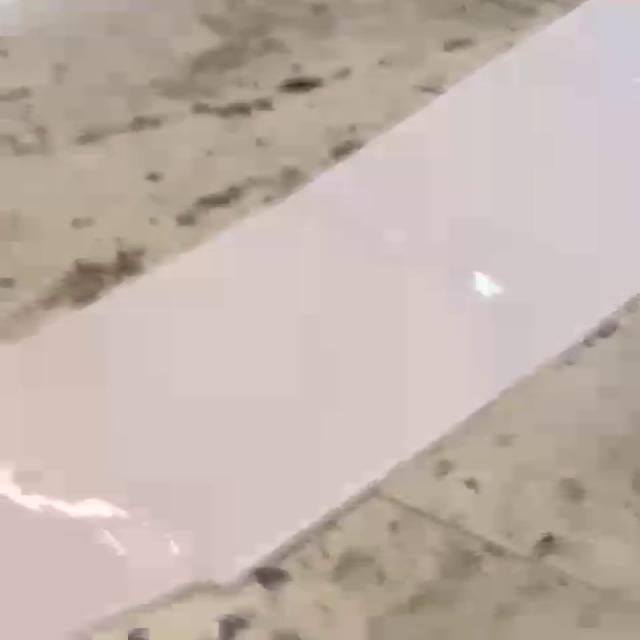road: (0, 0, 640, 640)
